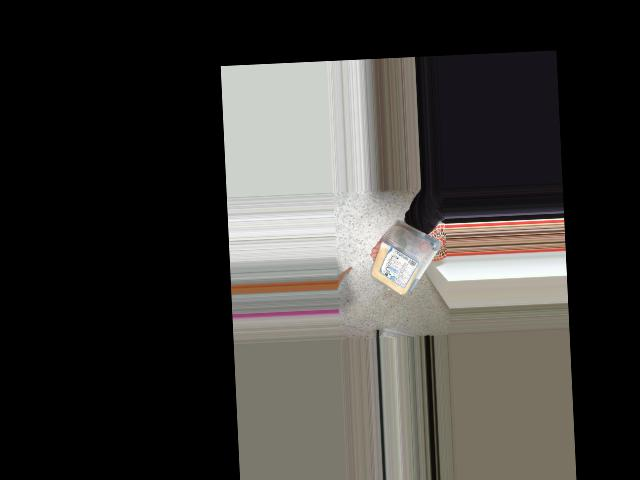cheese: (376, 230, 415, 297)
